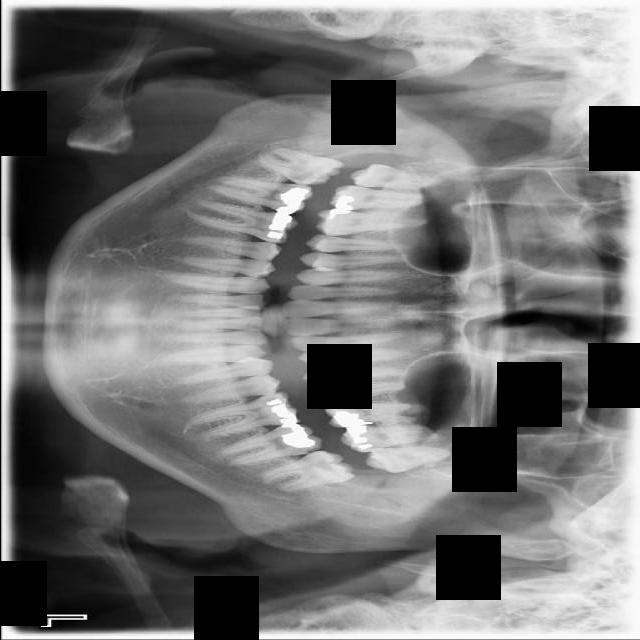3M ESPE Implant: (348, 162, 446, 191)
52: (266, 408, 325, 468), (262, 170, 317, 227), (247, 386, 301, 436), (247, 202, 301, 251), (323, 396, 372, 429), (328, 182, 376, 214), (313, 207, 363, 237), (339, 425, 385, 453), (285, 160, 327, 190), (312, 459, 345, 474), (306, 443, 322, 455)
73: (94, 586, 110, 593)
BioHorizons Implant: (338, 421, 448, 454)
BioLife Implant: (364, 444, 452, 475)
Biomet 3i Implant: (258, 444, 356, 497)
Blue Sky Bio Implant: (217, 419, 325, 468)
Caries: (328, 181, 437, 211)
Implant: (207, 174, 314, 217)
Keystone Dental Implant: (253, 141, 343, 194)
